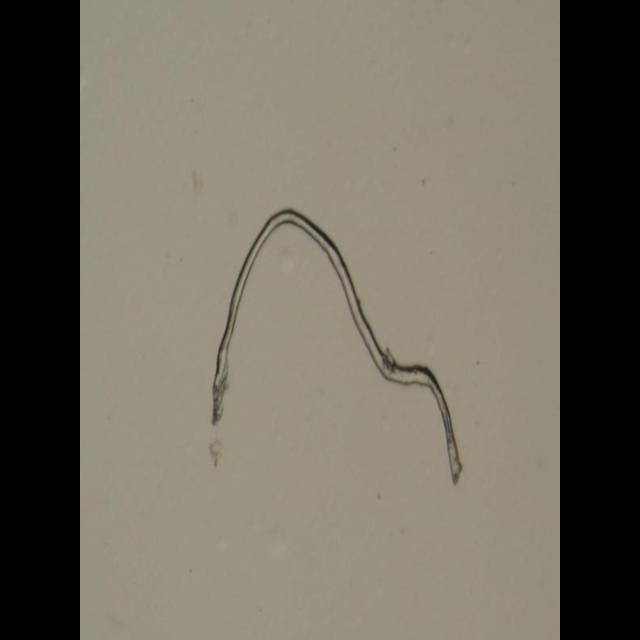Fibre: (210, 206, 462, 487)
